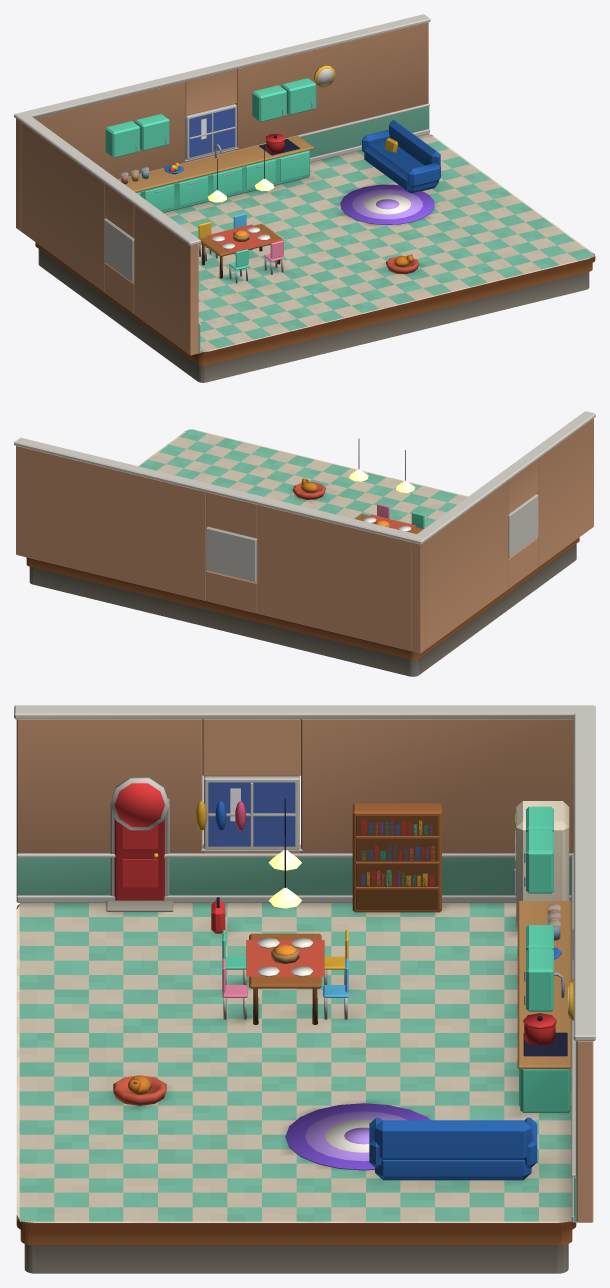
The model's file is kitchen.glb.
3 views of the same model, one above another, from view 1: azimuth 30°, elevation 25°; view 2: azimuth 150°, elevation 25°; view 3: azimuth 270°, elevation 25° (orthographic). The views are drawn at different scales.
Visible parts, largest first — view 1: kitchen_Satin, kitchen_Gloss, kitchen_Matte; view 2: kitchen_Satin, kitchen_Matte, kitchen_Gloss; view 3: kitchen_Satin, kitchen_Gloss, kitchen_Matte, kitchen_Glow_warm.
Part boxes in pixels (x1,y1,x2,y2): kitchen_Satin: (14,14,595,382); kitchen_Gloss: (105,65,335,270); kitchen_Matte: (194,134,595,357); kitchen_Satin: (14,411,595,676); kitchen_Matte: (26,429,468,651); kitchen_Gloss: (363,503,424,531); kitchen_Satin: (14,705,595,1273); kitchen_Gloss: (114,782,573,1112); kitchen_Matte: (16,904,576,1231); kitchen_Glow_warm: (268,850,301,908).
Bounding box in the file's own units: 14 × 4.78 × 10.4.
